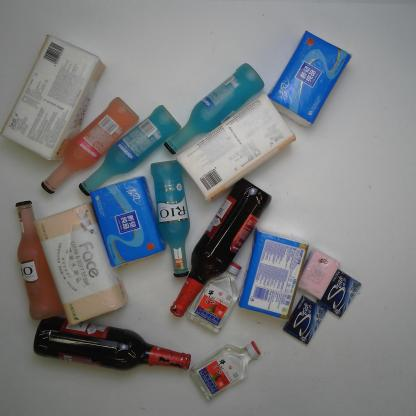Alcohol: (170, 177, 272, 318), (40, 96, 140, 194), (77, 104, 182, 197), (163, 62, 265, 155), (33, 315, 192, 371), (15, 200, 66, 322), (150, 159, 191, 279), (190, 340, 261, 401), (187, 261, 242, 334)
Gum: (316, 269, 362, 318), (283, 295, 327, 345)
Tissue: (0, 33, 106, 161), (176, 92, 298, 203), (34, 201, 128, 326), (267, 30, 352, 128), (89, 175, 168, 268), (238, 226, 310, 321), (298, 247, 340, 301)
